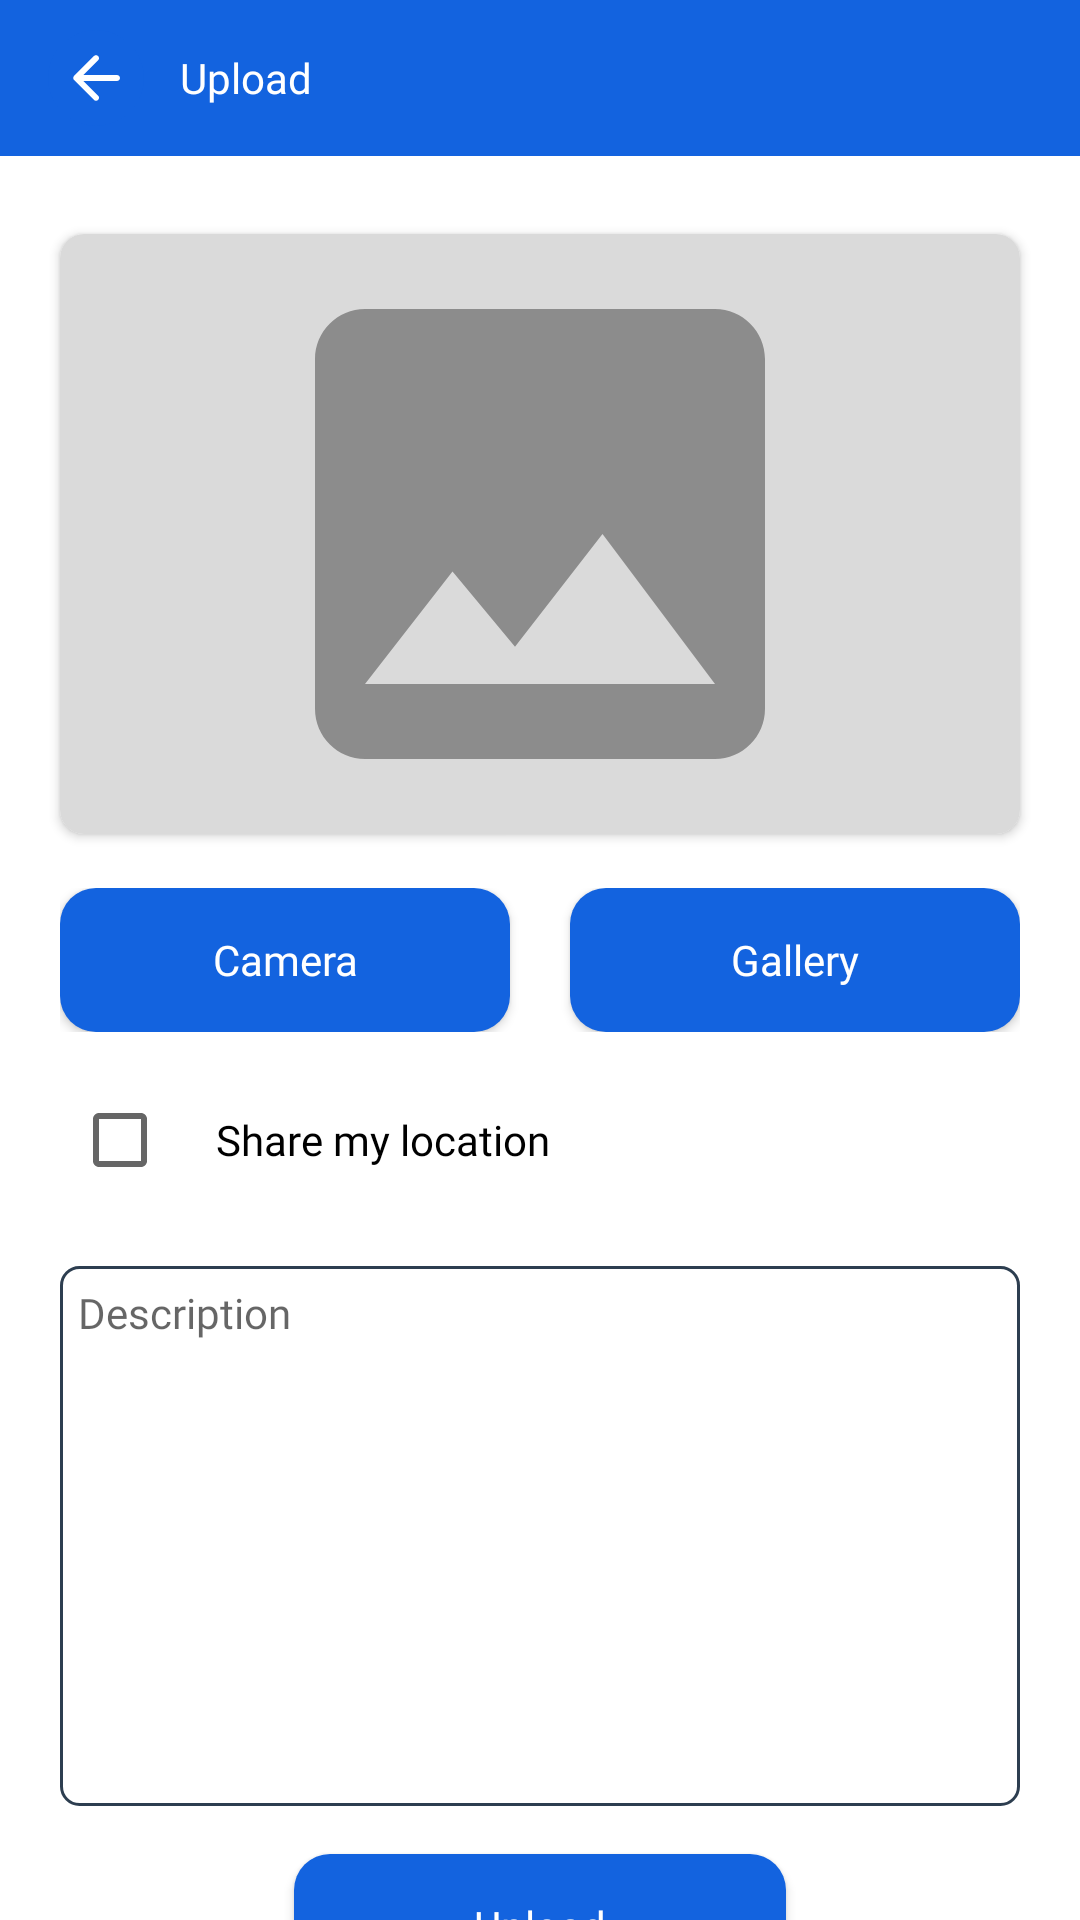

Icon click points for this 1080 x 1920 phone screenshot, format [x,y]:
Back: [96,78]
